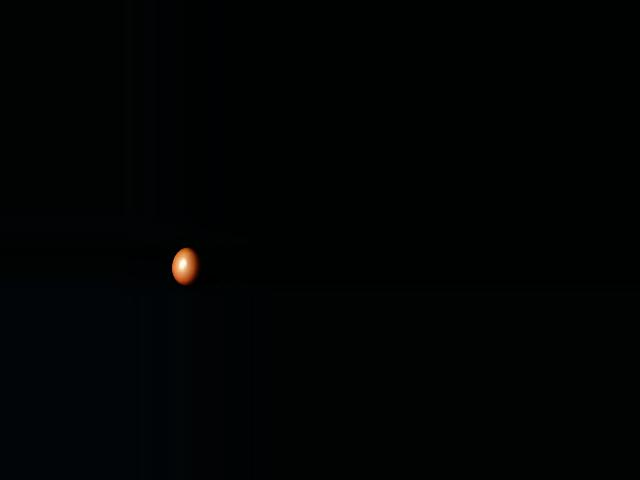egg: (172, 247, 202, 286)
